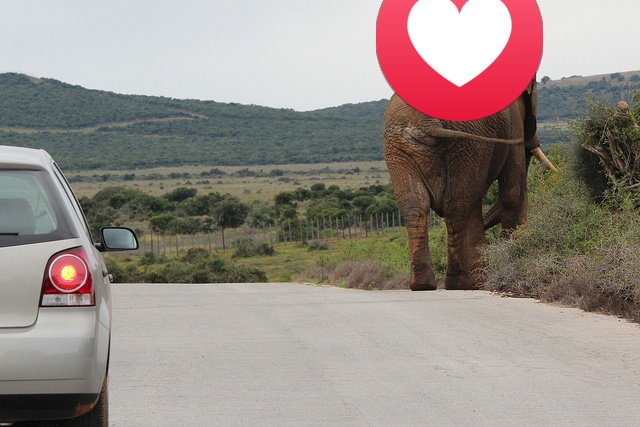love: (376, 0, 543, 121)
